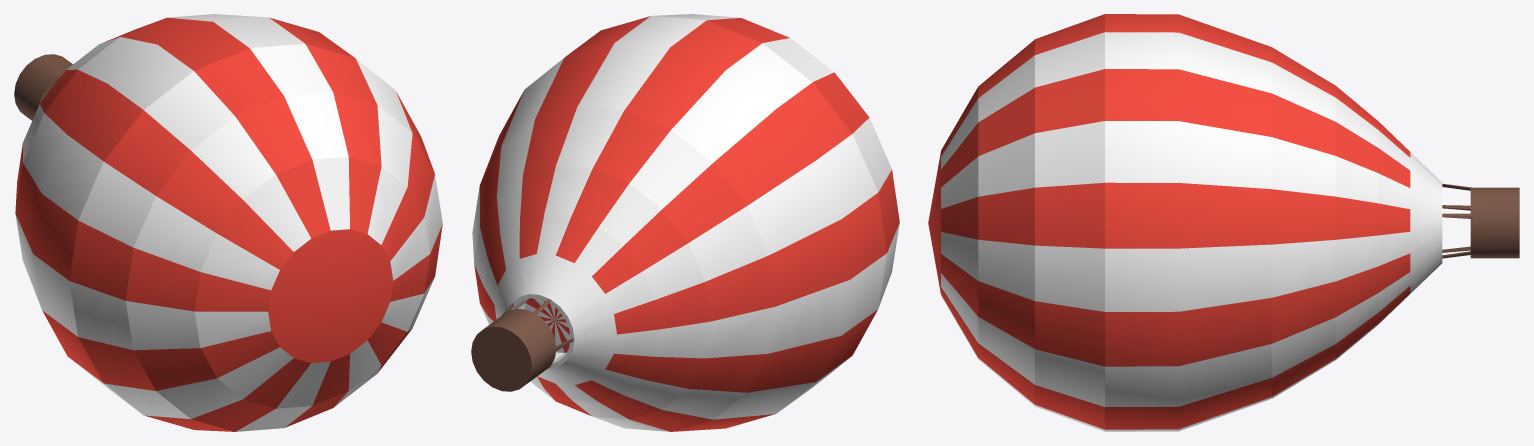
File: HotAirBalloon_01(1).gltf
The picture shows the model from 3 angles, left to right: view 1: azimuth 30°, elevation 25°; view 2: azimuth 150°, elevation 25°; view 3: azimuth 270°, elevation 25°; orthographic projection.
Parts seen in each view (by area): view 1: node-0; view 2: node-0; view 3: node-0.
Part boxes in pixels (box(x1,y1,x2,y2)): node-0: box(14, 14, 442, 431); node-0: box(471, 14, 899, 431); node-0: box(928, 14, 1519, 431).
Size of the model in its own units: 310 by 310 by 436.
